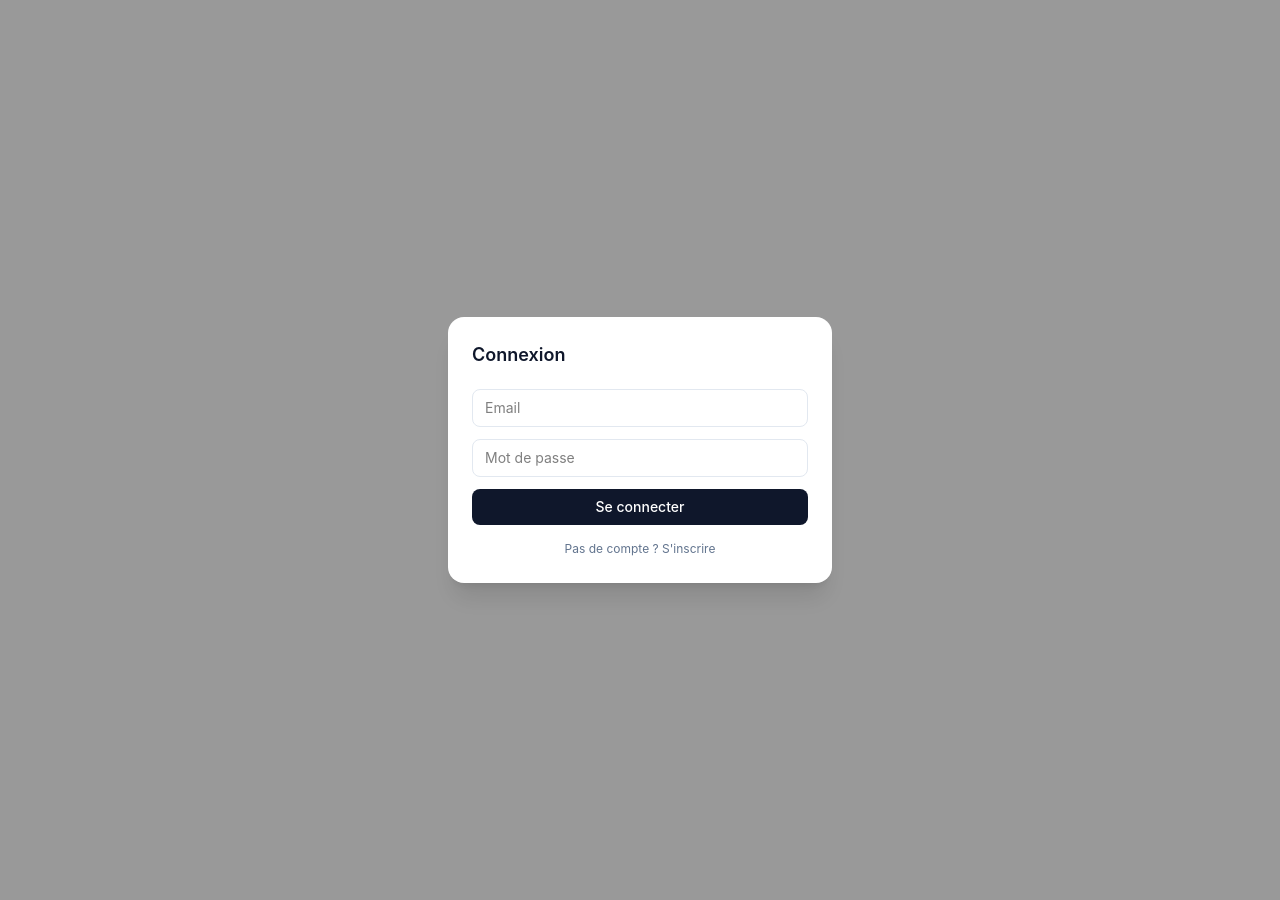
Test: AuthModal › toggle mode fonctionne
Click the button with class "mt-4": (640, 549) [472,541,808,557]
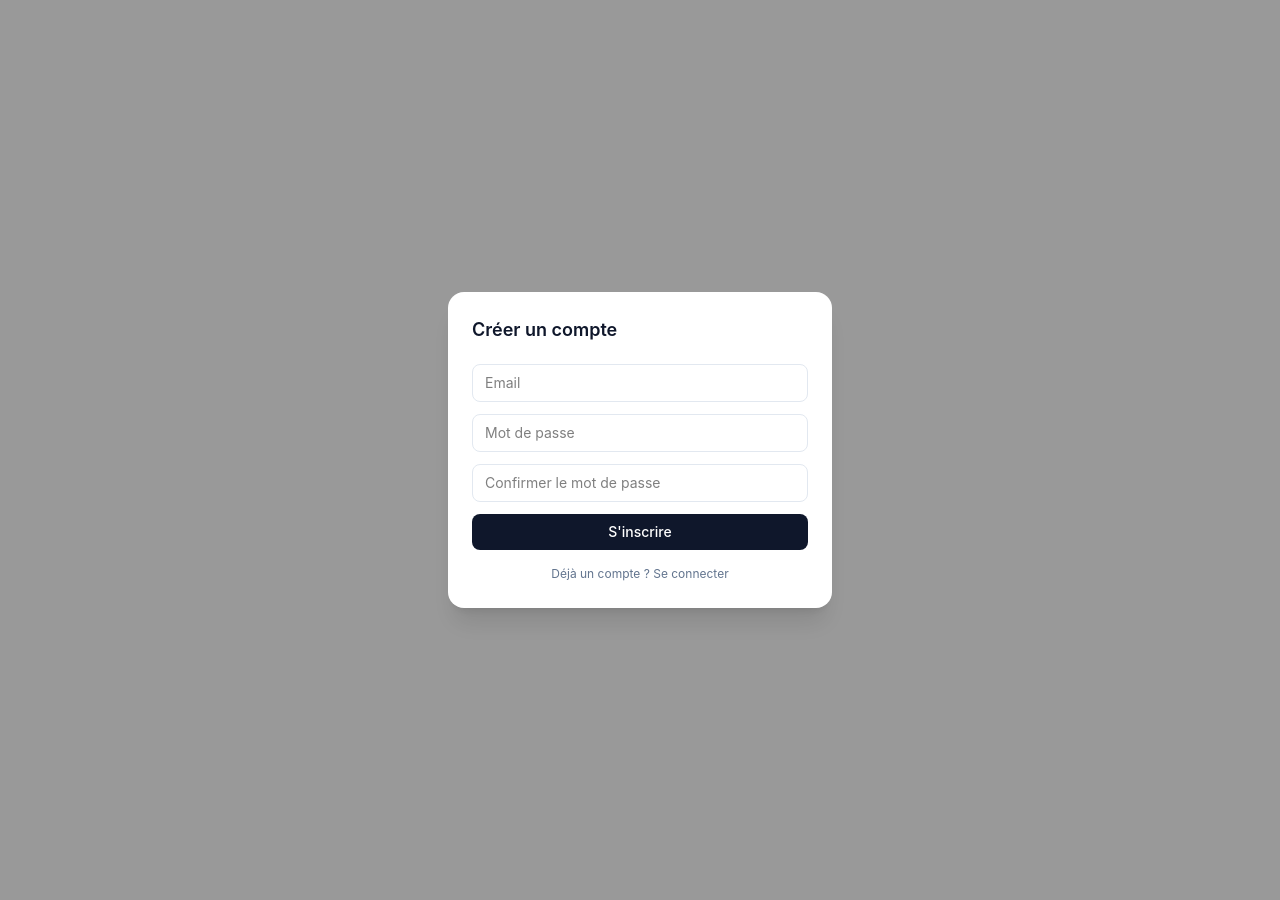
Expected: the text "Créer un compte" is shown, [472,319,617,340]
